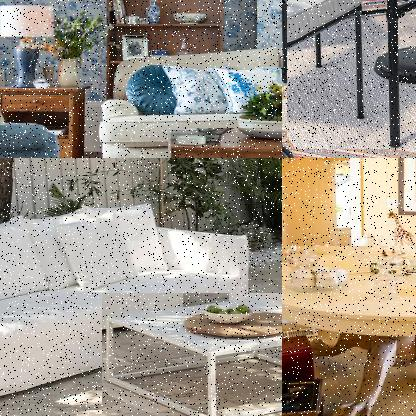table: (282, 246, 415, 415), (102, 293, 281, 415), (287, 0, 415, 151)
